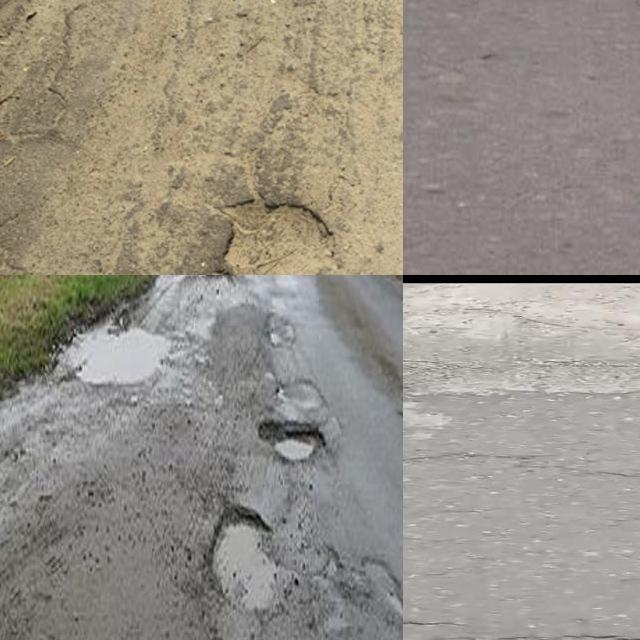Lubang: (216, 199, 337, 275), (196, 512, 285, 610), (248, 422, 338, 467)
Melintang: (403, 448, 640, 487), (403, 612, 640, 640)
